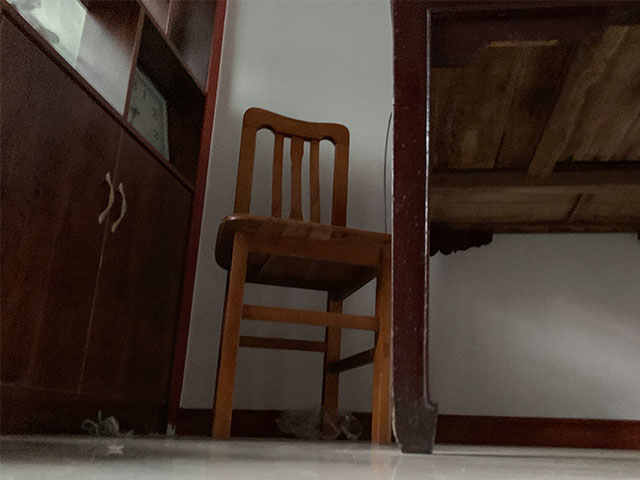cabinet: (1, 1, 228, 434)
stool: (210, 106, 394, 448)
table: (389, 1, 640, 456)
